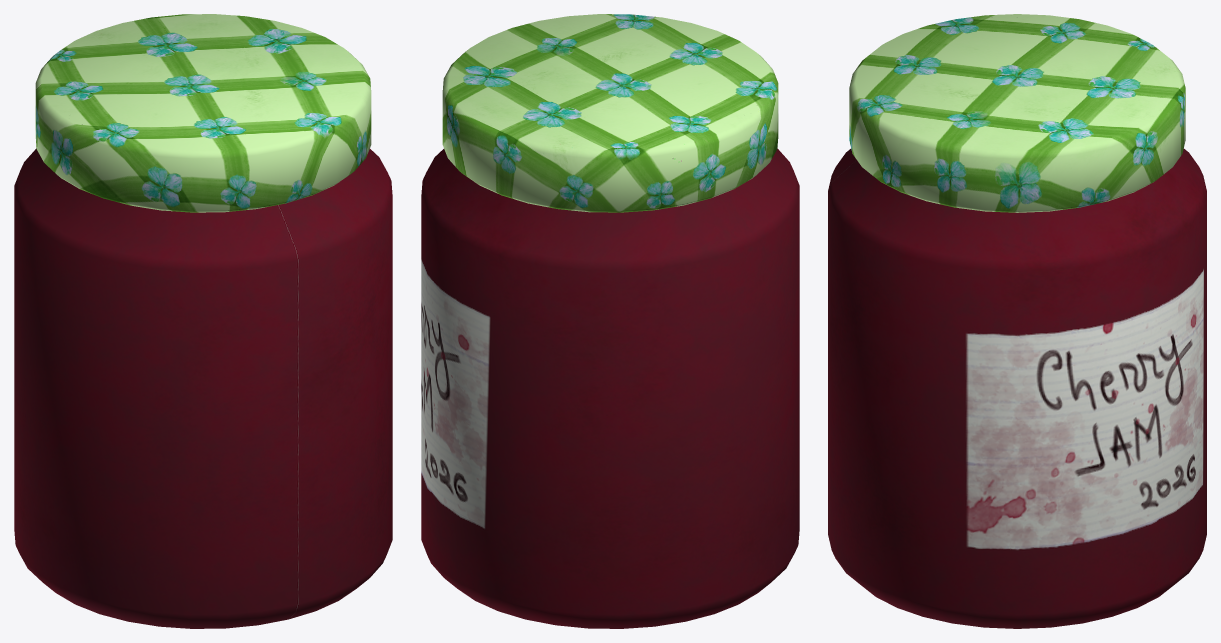
The model's file is free_cherry_jam_jar_-__low_poly.glb.
3 views of the same model, side by side, from view 1: azimuth 30°, elevation 25°; view 2: azimuth 150°, elevation 25°; view 3: azimuth 270°, elevation 25° (orthographic).
Parts seen in each view (by area): view 1: Jar, JarLid; view 2: Jar, JarLid; view 3: Jar, JarLid.
Boxes of the visible parts, x1,y1,x2,y2 form: Jar: (14,148,392,628); JarLid: (35,14,371,212); Jar: (421,148,799,628); JarLid: (442,14,778,212); Jar: (828,148,1206,628); JarLid: (849,14,1185,212).
Bounding box in the file's own units: 0.1764 × 0.2451 × 0.1764.
2 materials, 2 textured.
